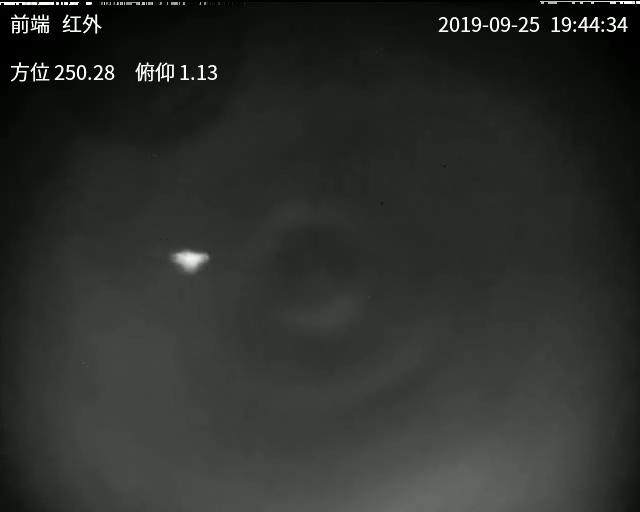uav: (162, 246, 214, 276)
